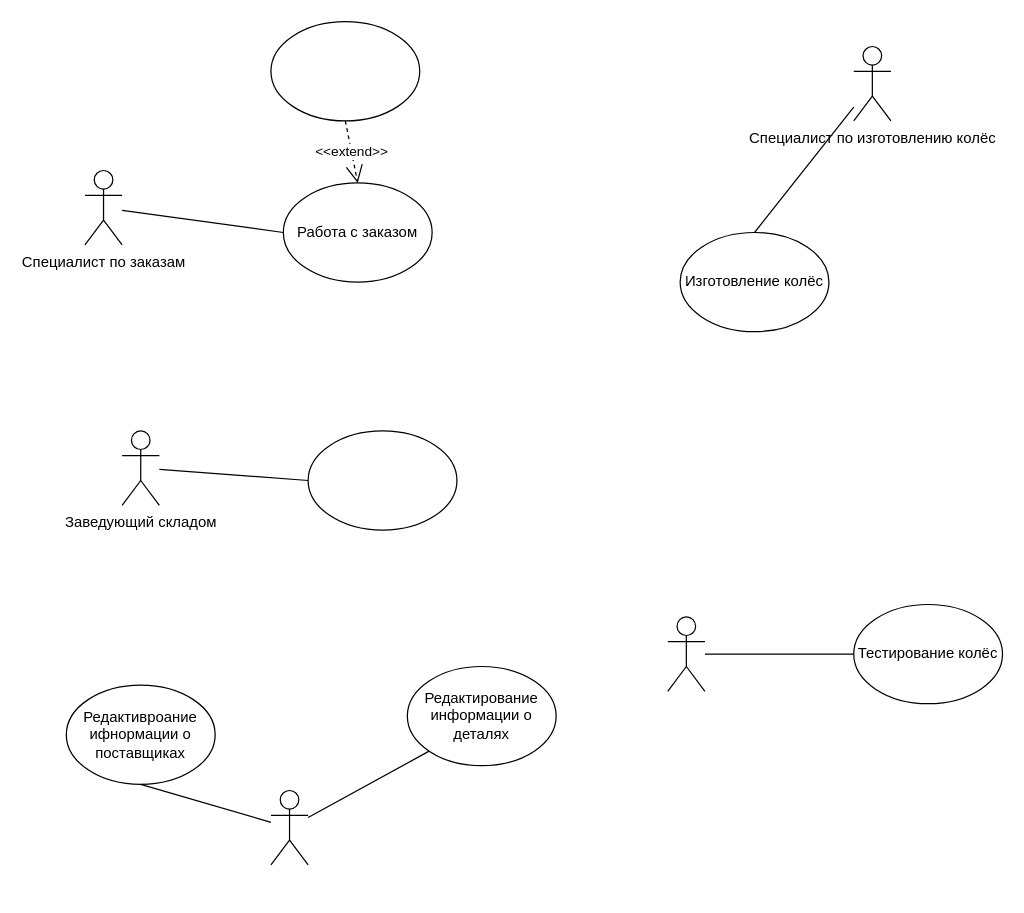
Some shapes in this 1024 by 913 pixel diagram are drawn without their labels. The shapes that lost their labels are listed below. From the top down, each one's box as (x1, y1, x2, y2) in pixels, then its label:
(270, 20, 420, 121): Редкактирование информации о заказчиках
(307, 430, 457, 530): Учёт деталей
(666, 616, 705, 691): Тестировщик
(270, 789, 308, 865): Специалист снабжения
